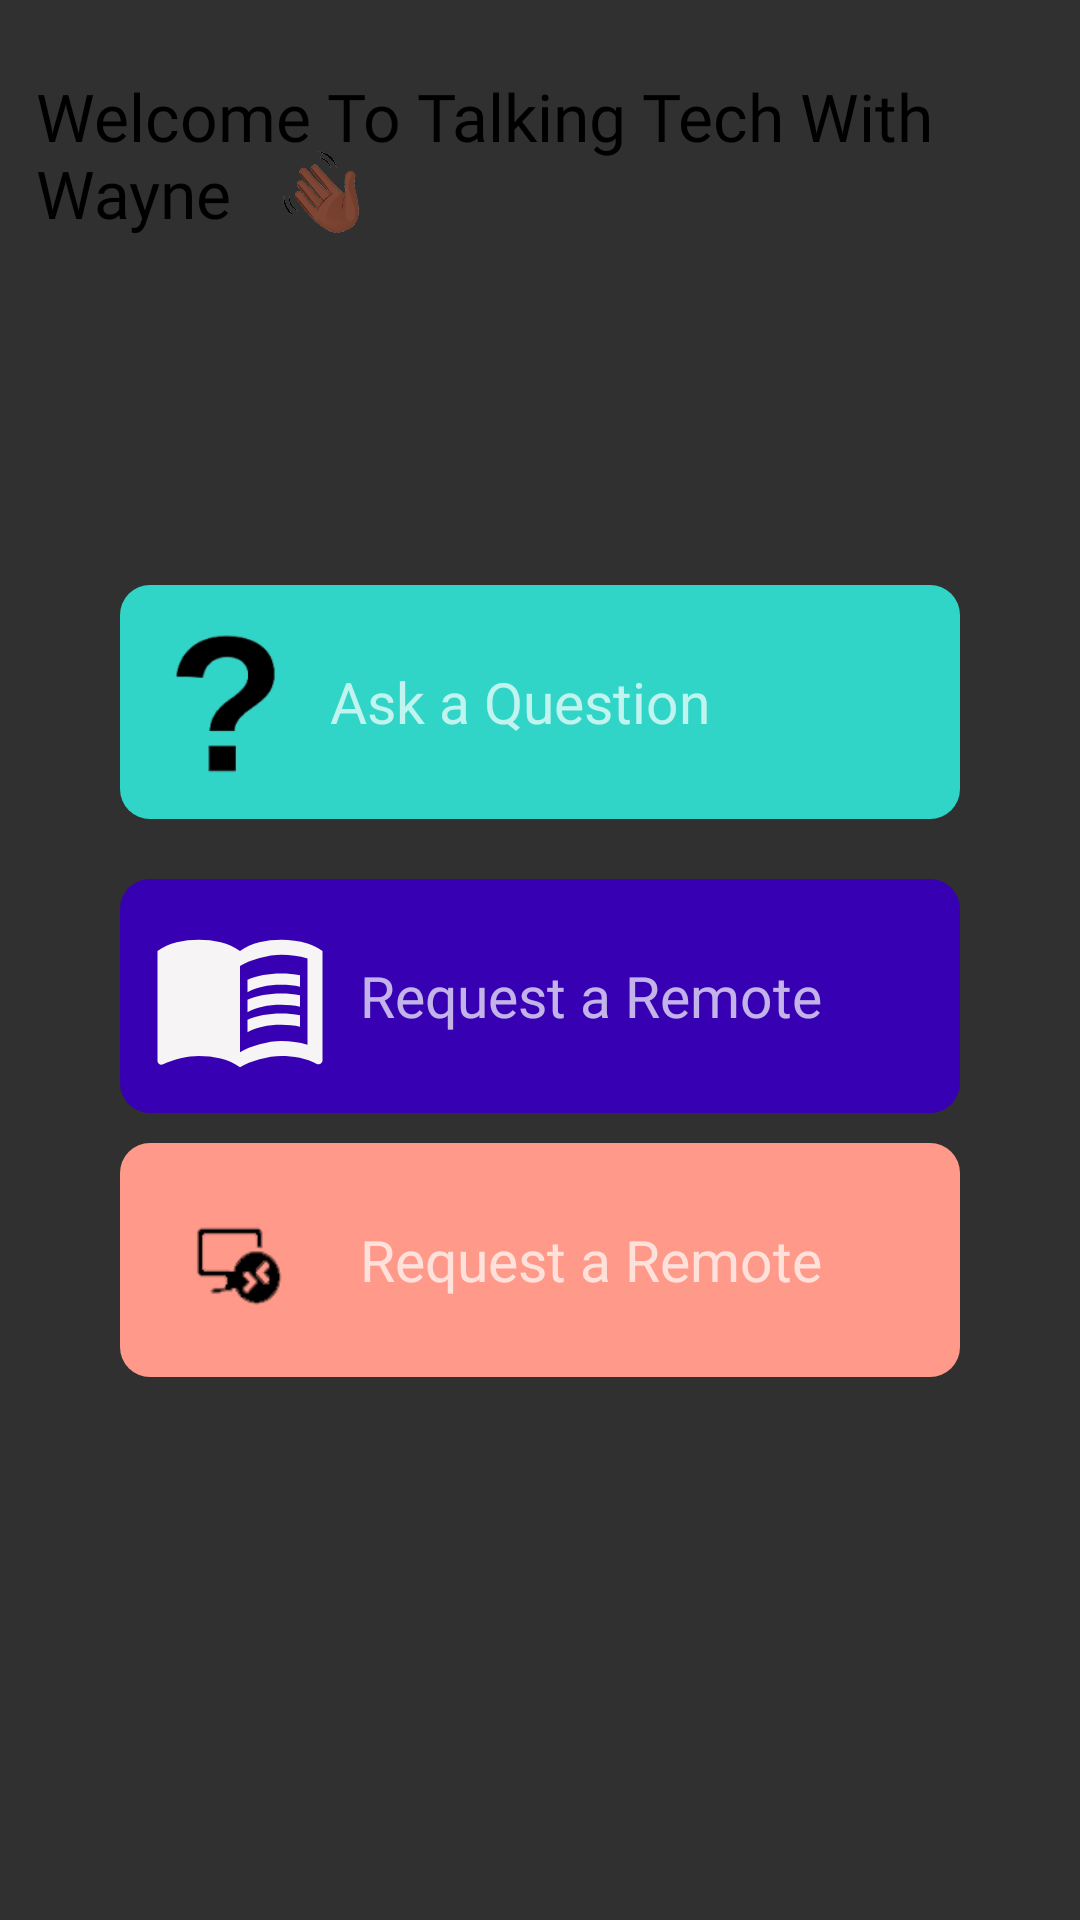

Screen size 1080 × 1920. Icon name, then its center in pixels as [x,y]:
open book: [240,1003]
question mark: [225,703]
waving emoji: [321,192]
